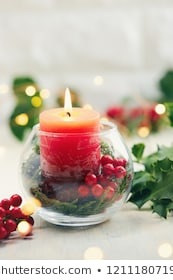Fire: (61, 86, 76, 116)
